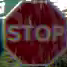Stop: (4, 1, 66, 66)
